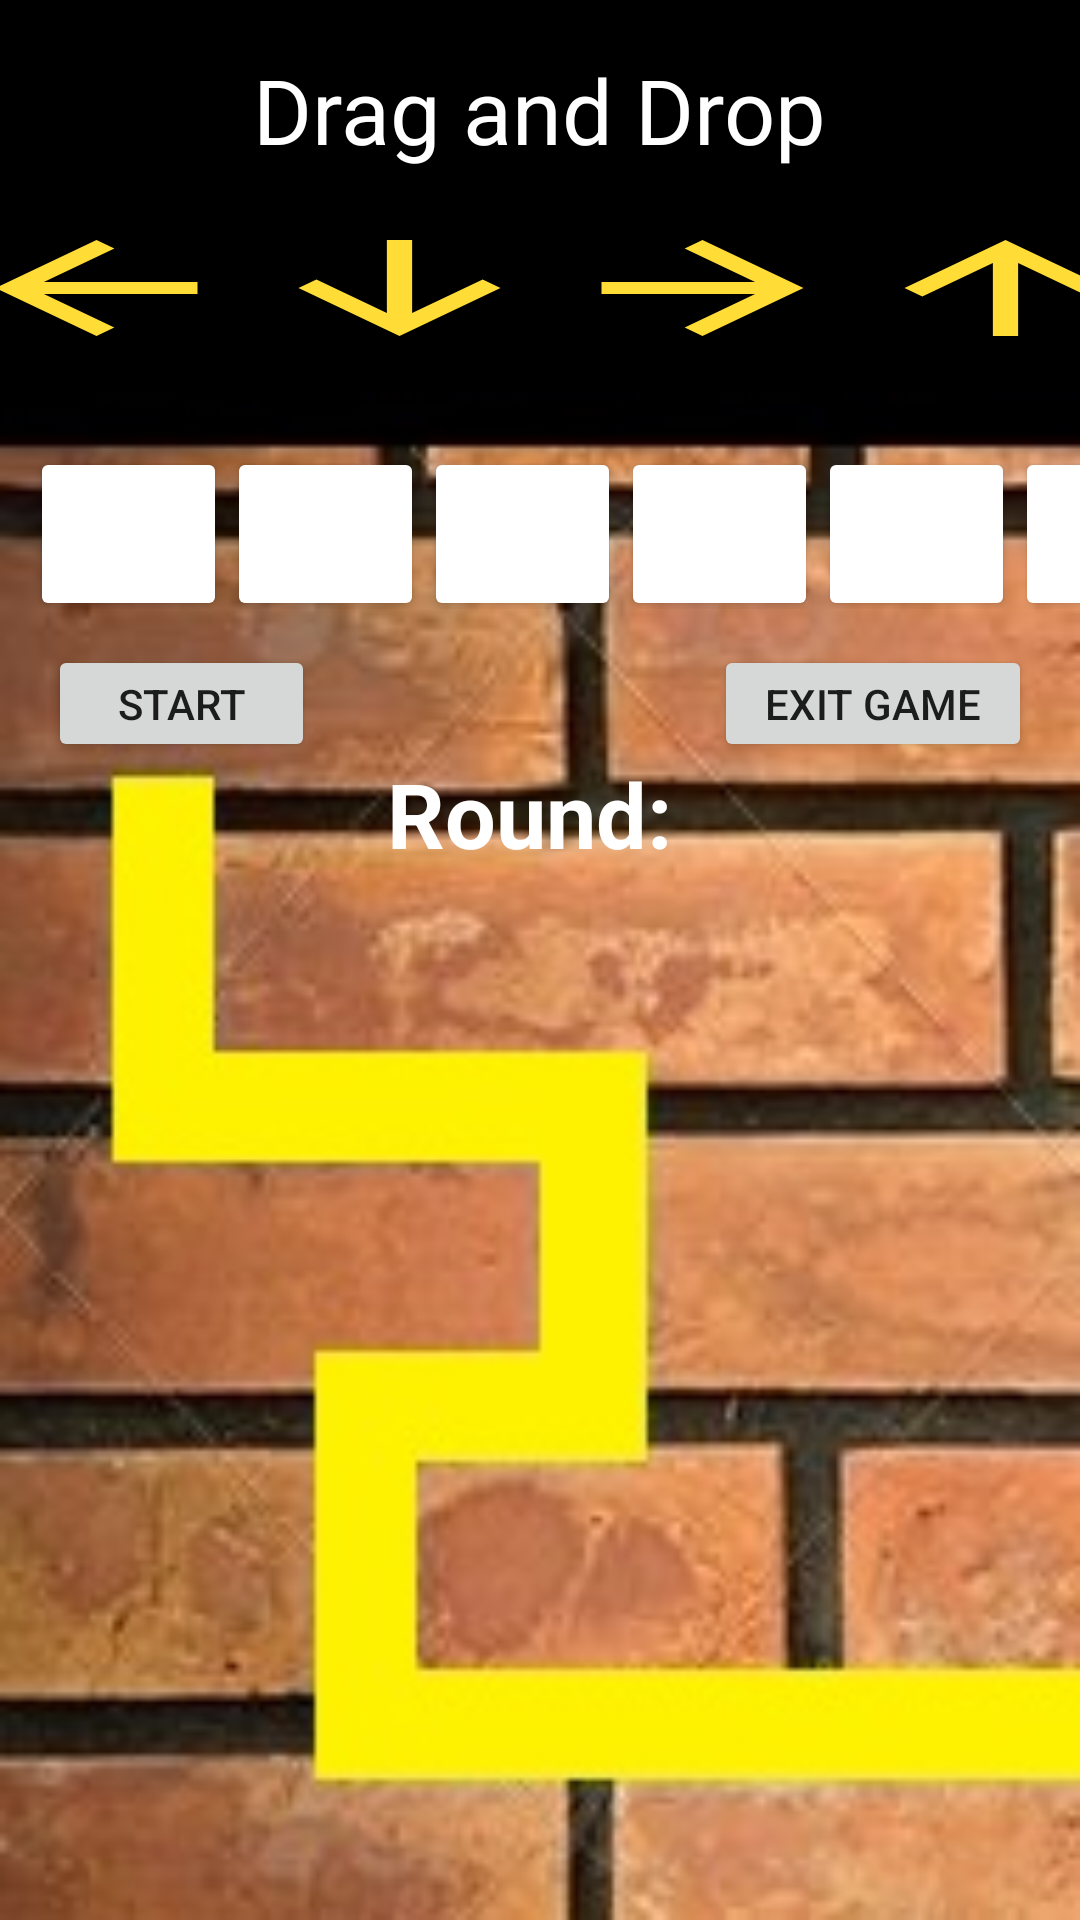

Icon bounding boxes for this 1080x1920 phone screenshot, format (x1, y1, x2, y2):
down: (299, 240, 500, 336)
right: (601, 240, 803, 336)
